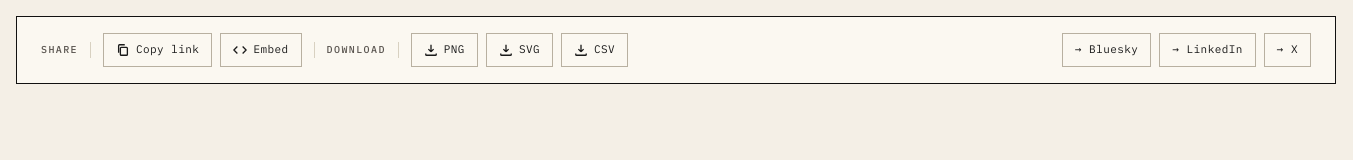
Test: ShareBar (F7 — every control is real) › shows an error state when the clipboard is unavailable
Click the button with aria-label "Copy link to chart". click: {"x": 158, "y": 50}
box: [103,33,212,67]
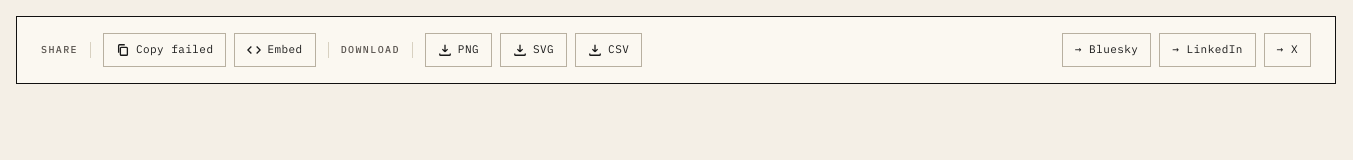
Now the text "Copy failed" is shown, box [103,33,226,67]
